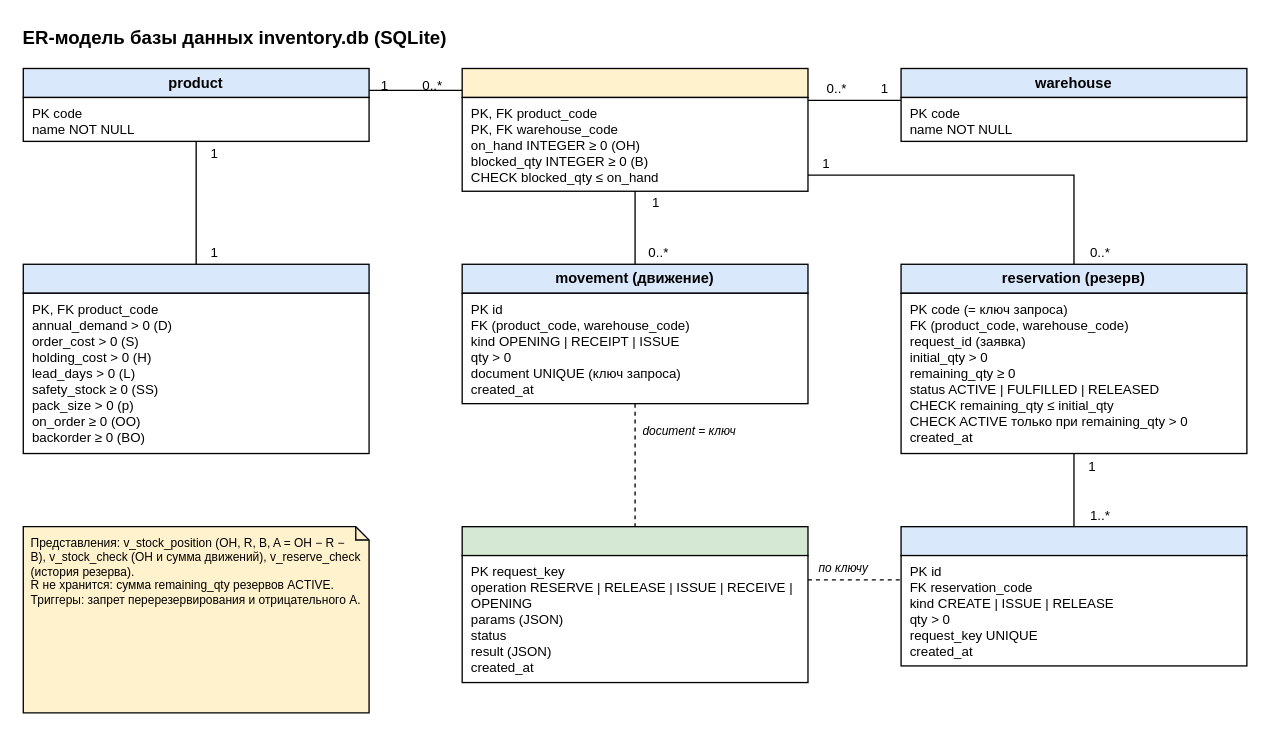
Image size: 1270x735. Some labels were removed from this diagram. Each missing label, with the box of its shape:
planning_param (параметры планирования): (22, 263, 369, 293)
processed_request (обработанный запрос): (461, 525, 808, 556)
reserve_event (история резерва): (900, 525, 1247, 556)
stock (остаток): (461, 67, 808, 97)
